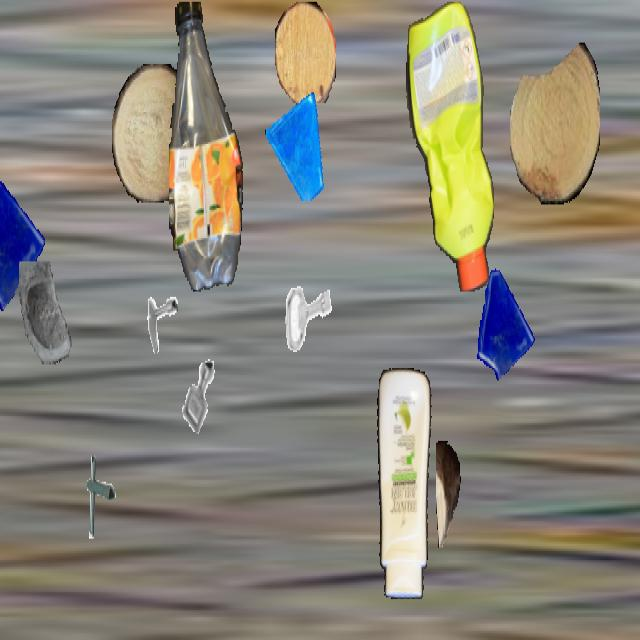glass: (13, 262, 81, 382), (471, 263, 537, 381), (0, 151, 47, 311), (265, 89, 327, 199)
metal: (277, 263, 337, 370), (171, 347, 227, 446), (72, 450, 124, 542), (136, 277, 178, 352)
plastic: (405, 2, 495, 290), (169, 2, 245, 290), (370, 368, 434, 599)
wood: (510, 41, 600, 204), (112, 64, 194, 203), (275, 2, 335, 105), (436, 441, 460, 547)
